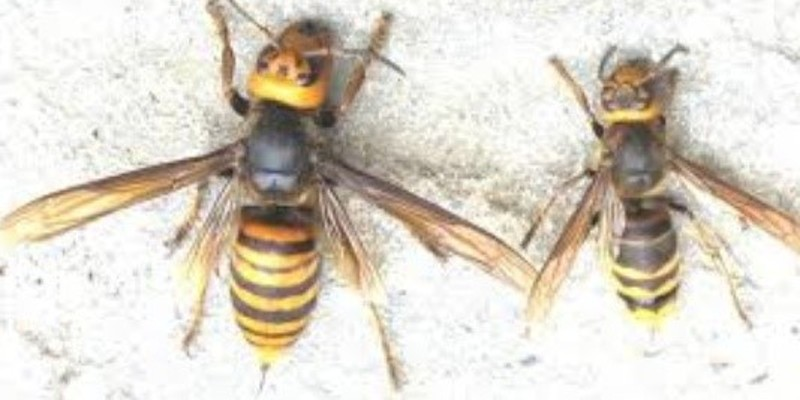asian_giant_hornet: (163, 9, 402, 371), (544, 43, 724, 339)
